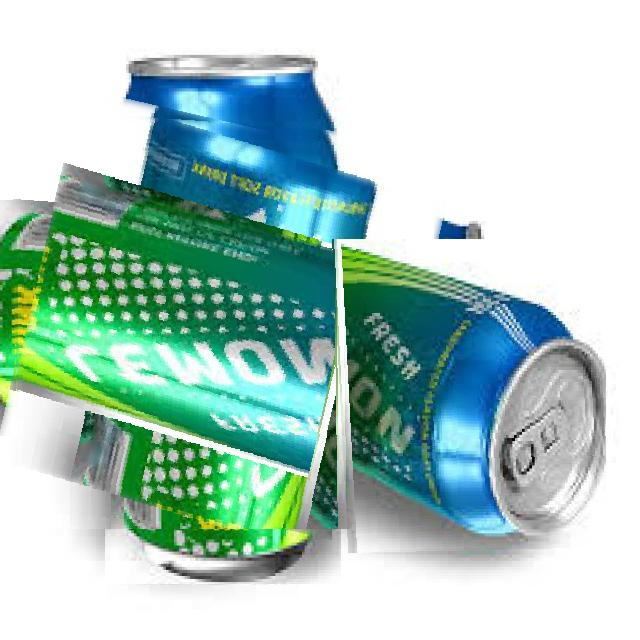recyclable: (12, 108, 434, 530), (332, 240, 606, 554)
